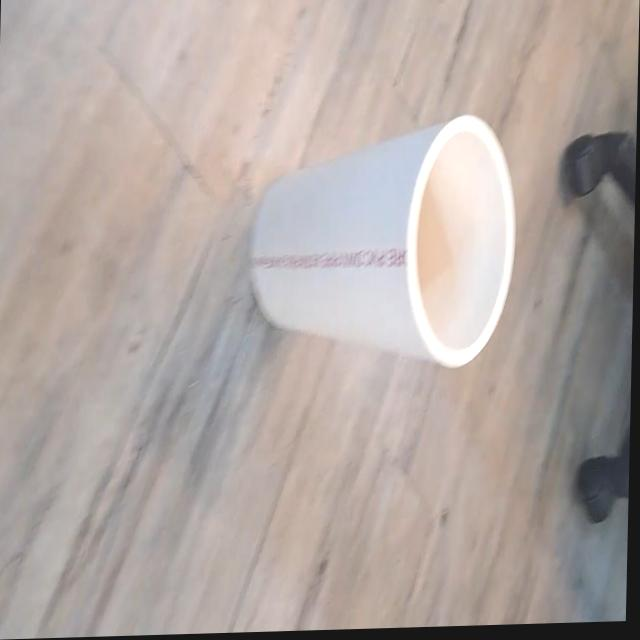CORAL: (243, 109, 525, 388)
